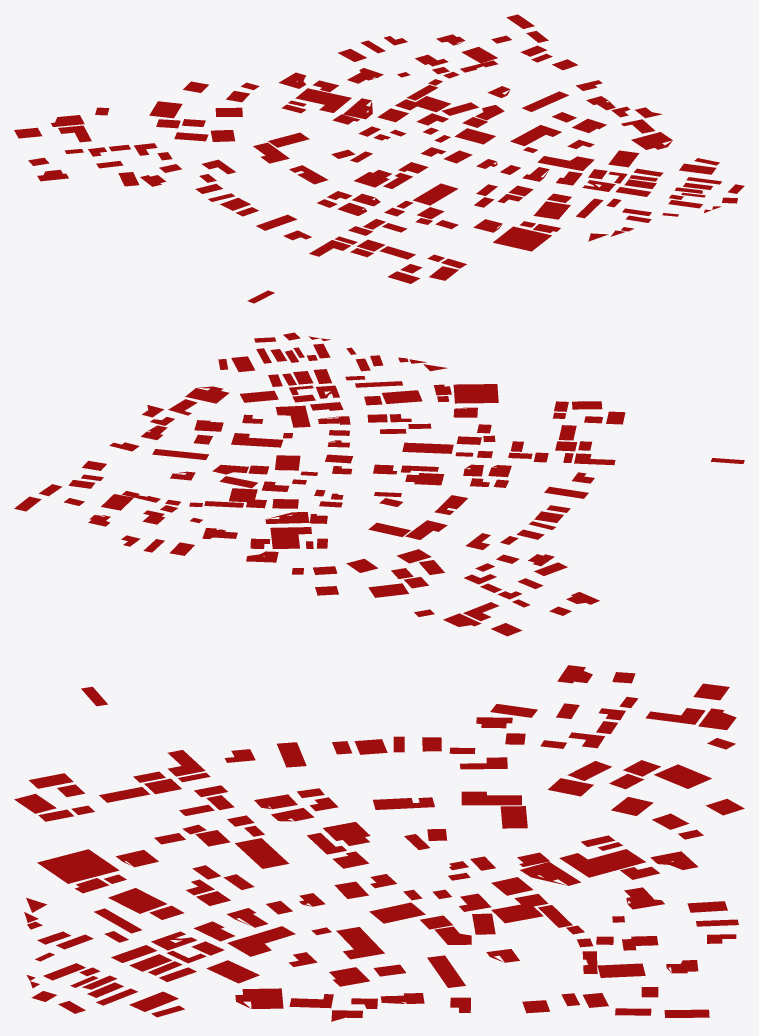
3 renders of one model, top to bottom at view 1: azimuth 30°, elevation 25°; view 2: azimuth 150°, elevation 25°; view 3: azimuth 270°, elevation 25°, orthographic. The views are drawn at different scales.
Bounding box in the file's own units: 266 × 0 × 231.
